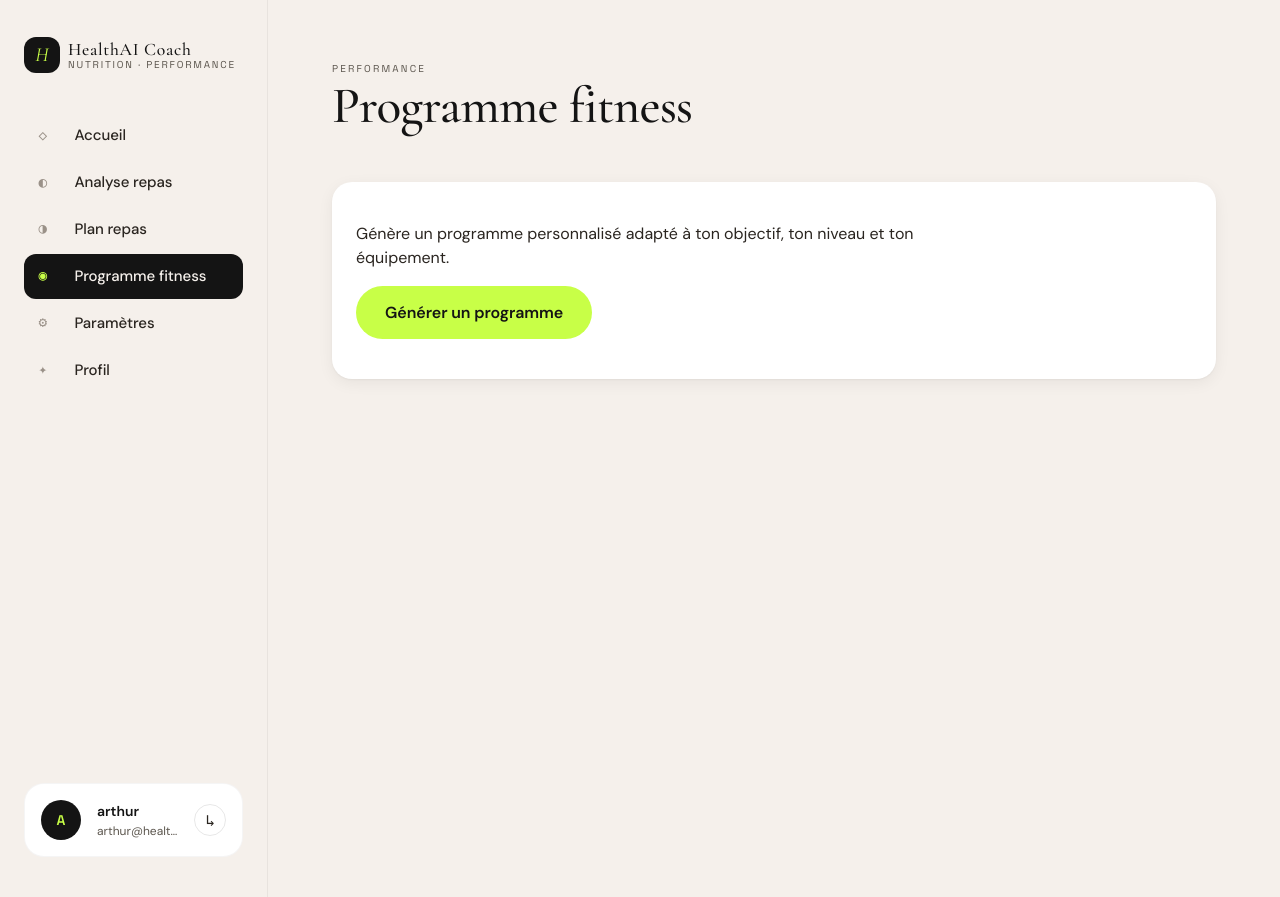
FitnessProgramView › shows a "Nouveau programme" CTA after a program has been generated
Click the button with test id "generate-program-cta" at (474, 312), box [356, 286, 592, 339]
(page scrolled)
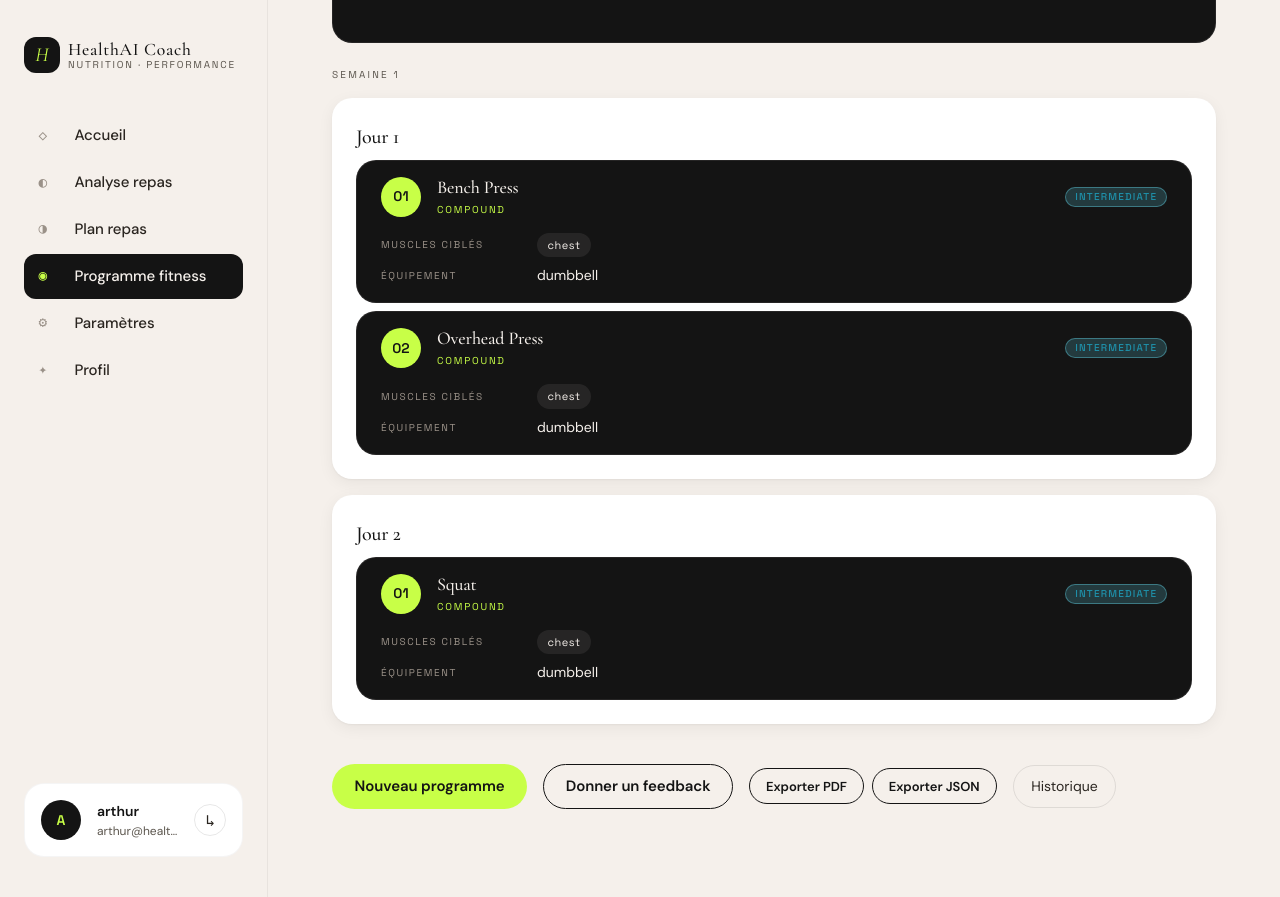
Now the button with test id "new-program-cta" reads "Nouveau programme", box [332, 764, 527, 809]
